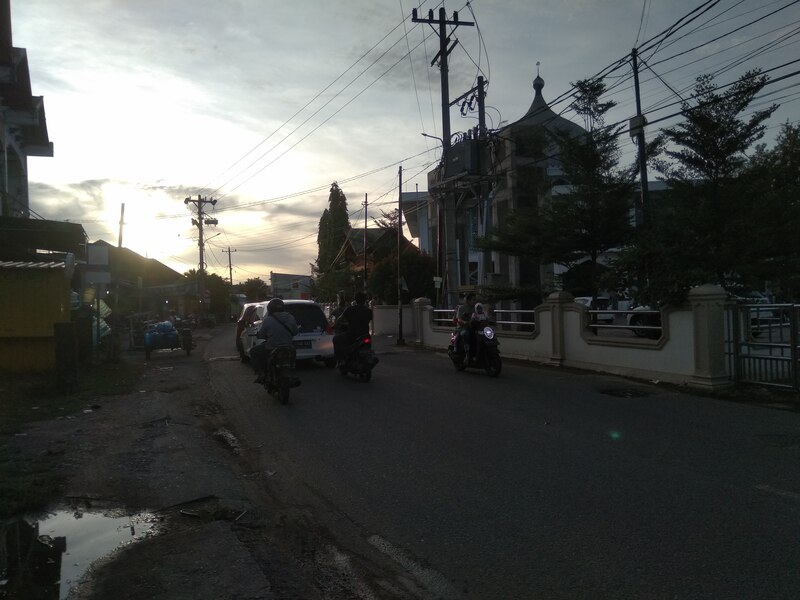car: (239, 299, 343, 370)
motorcycle: (253, 332, 306, 412), (445, 318, 509, 382), (329, 316, 383, 388)
